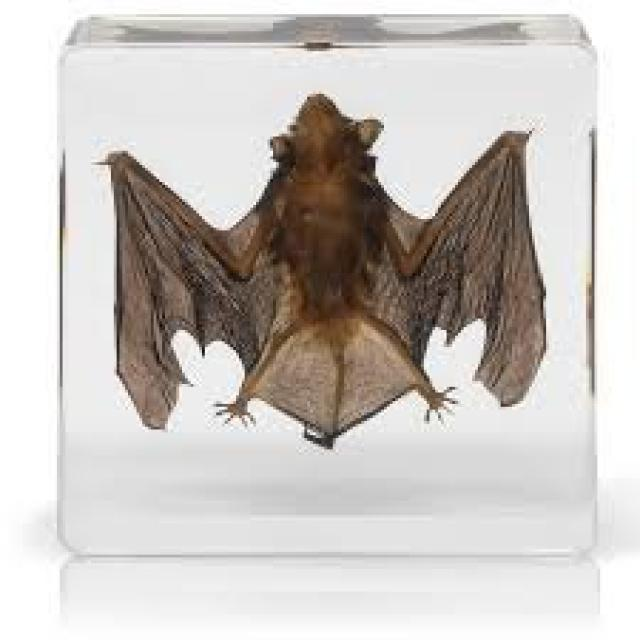Bat: (96, 88, 554, 451)
